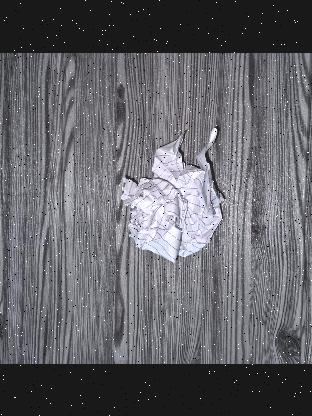Others: (128, 126, 220, 262)
